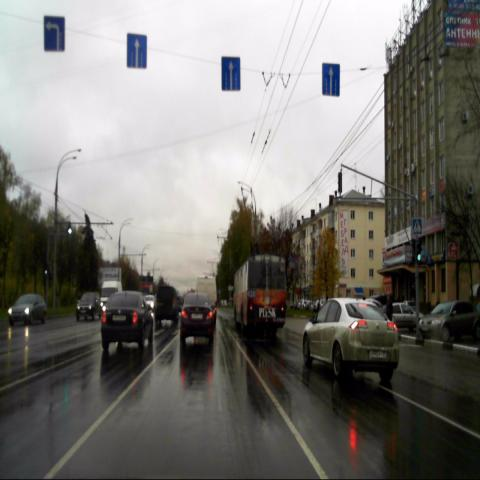5_15_2: (43, 15, 65, 54)
